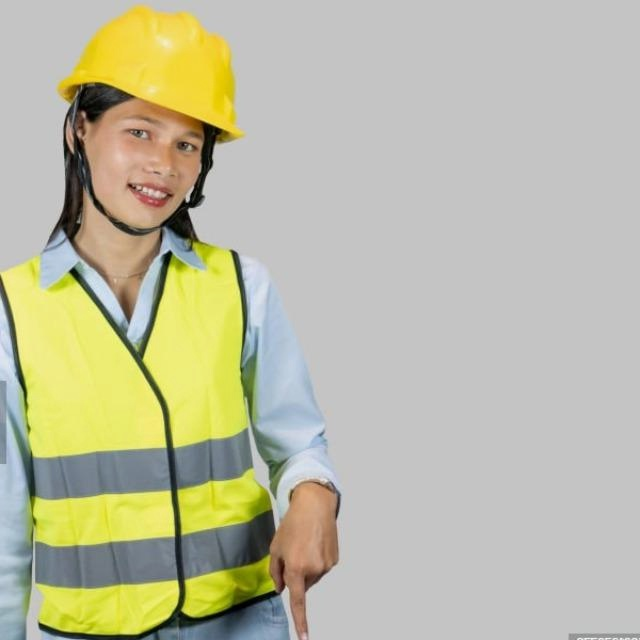Con_Casco: (59, 7, 246, 232)
Con_Chaleco: (0, 241, 284, 627)
